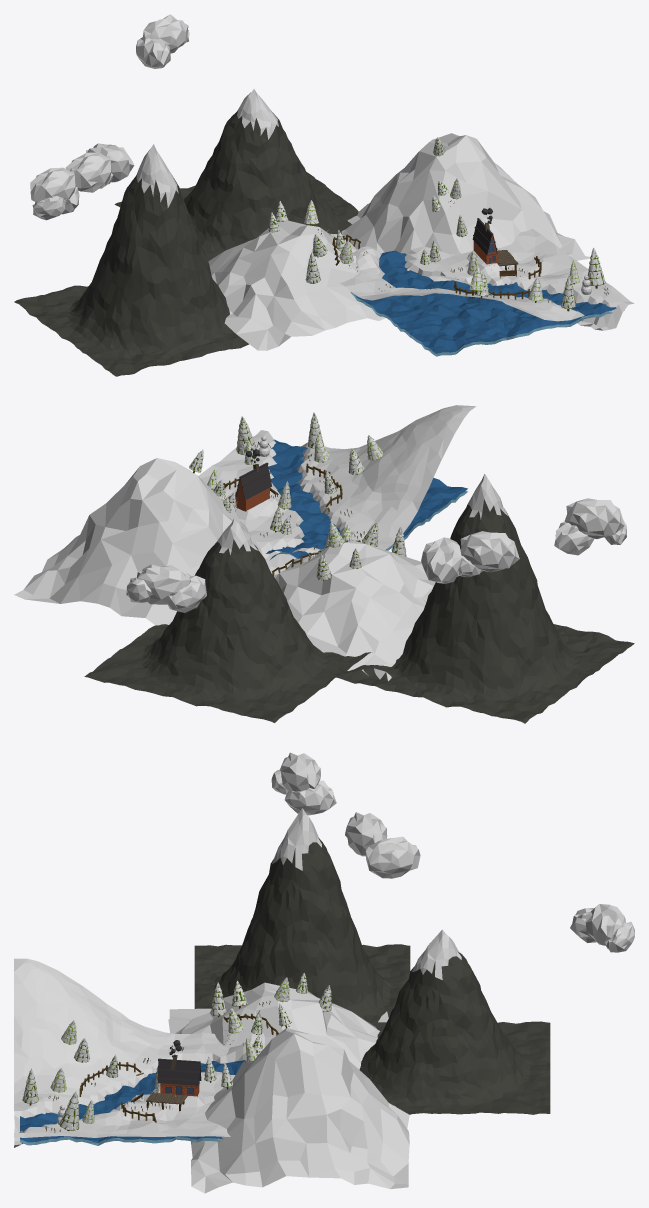
The model's file is Mountain Cabin.glb.
The picture shows the model from 3 angles, top to bottom: view 1: azimuth 30°, elevation 25°; view 2: azimuth 150°, elevation 25°; view 3: azimuth 270°, elevation 25°; orthographic projection. The views are drawn at different scales.
Parts seen in each view (by area): view 1: Plane.035, Plane.033, Plane.034, Plane.032, Plane.002_Plane.004, Plane_Plane.001, Cylinder.014_Cylinder.024, Icosphere.002, Icosphere.004, Icosphere.007, Plane.001_Plane.002, Icosphere.006 (+3 smaller); view 2: Plane.035, Plane.034, Plane.033, Plane.002_Plane.004, Plane.032, Cylinder.014_Cylinder.024, Plane_Plane.001, Icosphere.002, Icosphere.004, Icosphere, Icosphere.007, Cube.001_Cube.002 (+3 smaller); view 3: Plane.033, Plane.002_Plane.004, Plane.034, Plane.035, Plane.032, Cylinder.014_Cylinder.024, Plane_Plane.001, Icosphere, Cube.001_Cube.002, Icosphere.004, Icosphere.002, Icosphere.005 (+3 smaller).
Part boxes in pixels (box(x1,y1,x2,y2)): Plane.035: box(14, 144, 248, 376); Plane.033: box(341, 133, 590, 260); Plane.034: box(114, 89, 358, 261); Plane.032: box(208, 220, 385, 350); Plane.002_Plane.004: box(339, 228, 634, 330); Plane_Plane.001: box(355, 250, 616, 353); Cylinder.014_Cylinder.024: box(268, 137, 605, 311); Icosphere.002: box(65, 152, 112, 192); Icosphere.004: box(30, 167, 76, 202); Icosphere.007: box(143, 14, 188, 53); Plane.001_Plane.002: box(350, 292, 624, 356); Icosphere.006: box(136, 37, 170, 68); Plane.035: box(336, 473, 634, 723); Plane.034: box(84, 518, 372, 722); Plane.033: box(14, 458, 278, 625); Plane.002_Plane.004: box(198, 405, 476, 572); Plane.032: box(274, 540, 435, 681); Cylinder.014_Cylinder.024: box(189, 412, 406, 580); Plane_Plane.001: box(266, 439, 467, 558); Icosphere.002: box(460, 531, 519, 572); Icosphere.004: box(564, 498, 624, 538); Icosphere: box(421, 537, 462, 583); Icosphere.007: box(136, 564, 190, 604); Cube.001_Cube.002: box(235, 462, 271, 511); Plane.033: box(191, 1028, 409, 1193); Plane.002_Plane.004: box(14, 958, 256, 1147); Plane.034: box(359, 929, 550, 1114); Plane.035: box(194, 808, 410, 1022); Plane.032: box(168, 982, 388, 1069); Cylinder.014_Cylinder.024: box(22, 972, 331, 1130); Plane_Plane.001: box(20, 1047, 245, 1142); Icosphere: box(365, 836, 420, 878); Cube.001_Cube.002: box(157, 1058, 201, 1096); Icosphere.004: box(280, 752, 320, 791); Icosphere.002: box(345, 812, 387, 856); Icosphere.005: box(284, 780, 336, 815).
Bounding box in the file's own units: 34.73 × 12.18 × 34.42.
